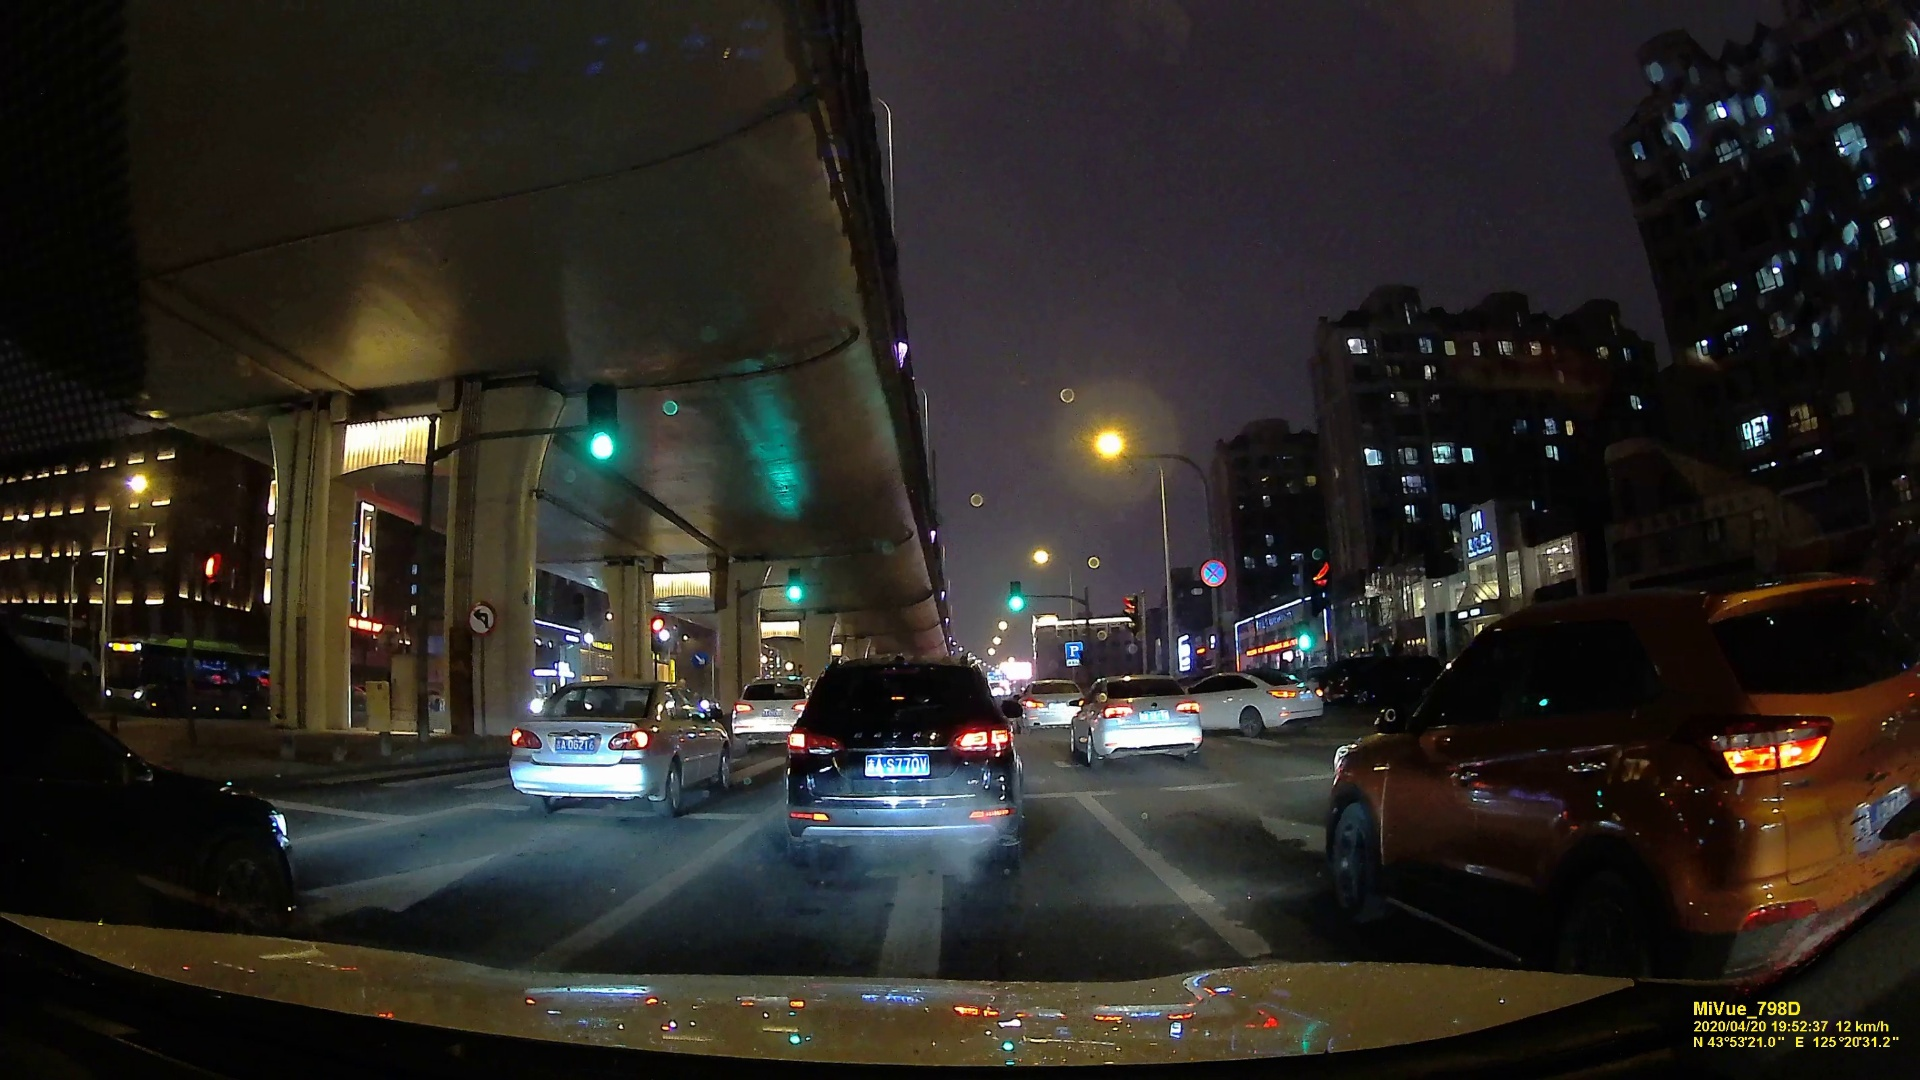traffic_sign: (585, 384, 618, 463), (1305, 551, 1335, 612), (465, 601, 495, 636), (1120, 596, 1141, 636), (1200, 559, 1228, 585), (1063, 641, 1087, 669), (1006, 582, 1023, 616), (786, 570, 802, 603)
vehicle: (1332, 585, 1916, 990), (775, 658, 1022, 870), (502, 673, 727, 822), (1069, 673, 1203, 765), (1189, 666, 1323, 737), (729, 676, 800, 738), (1021, 678, 1081, 727)
